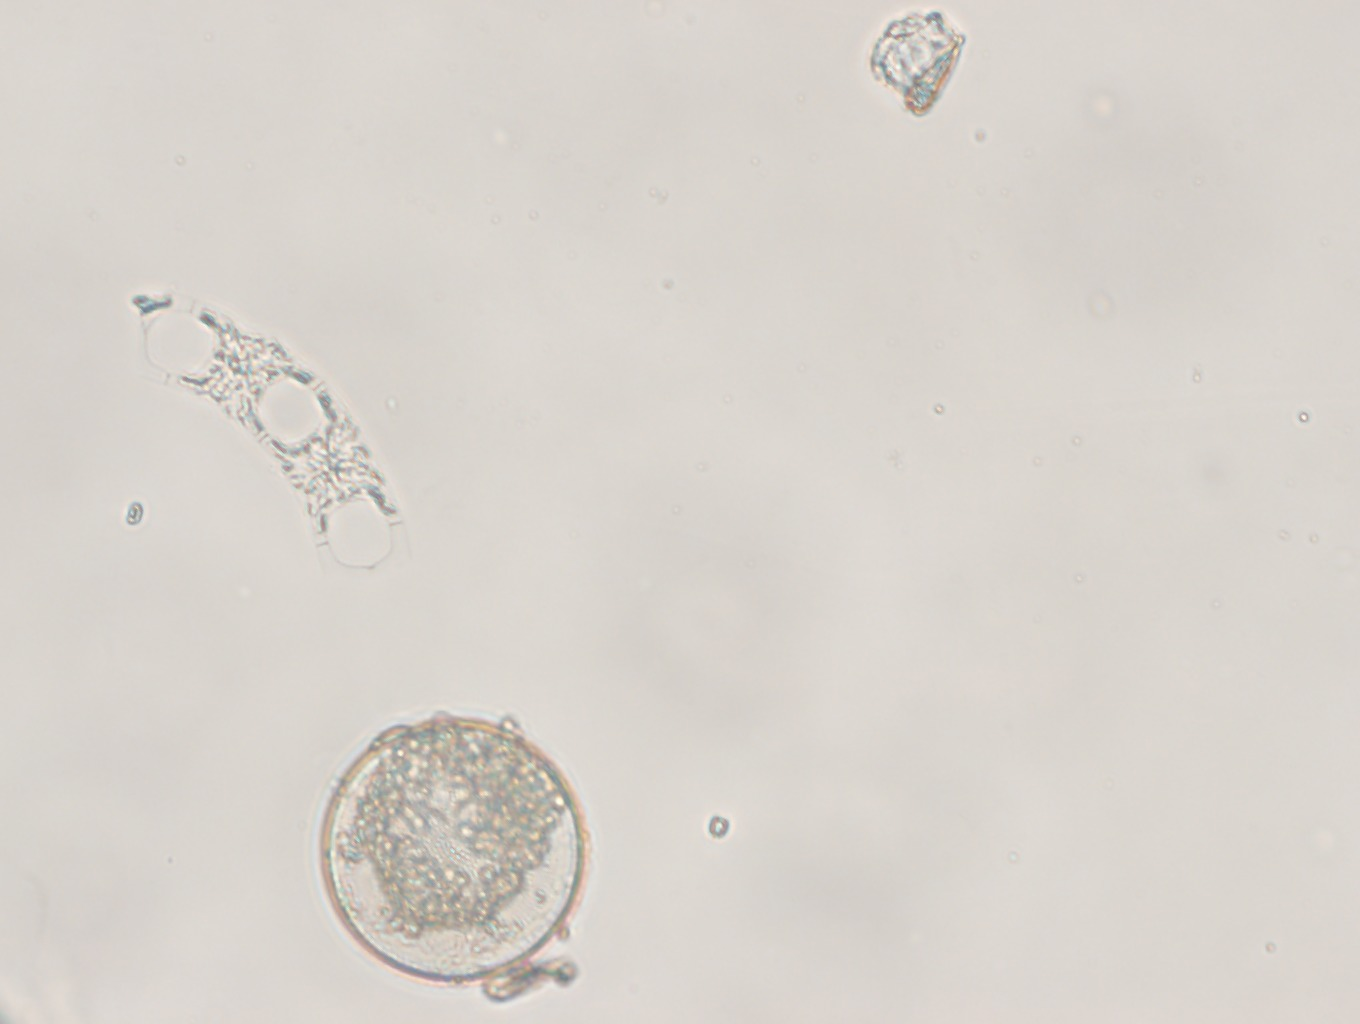coscinodiscus: (317, 710, 597, 998)
eucampia: (126, 290, 407, 593)
